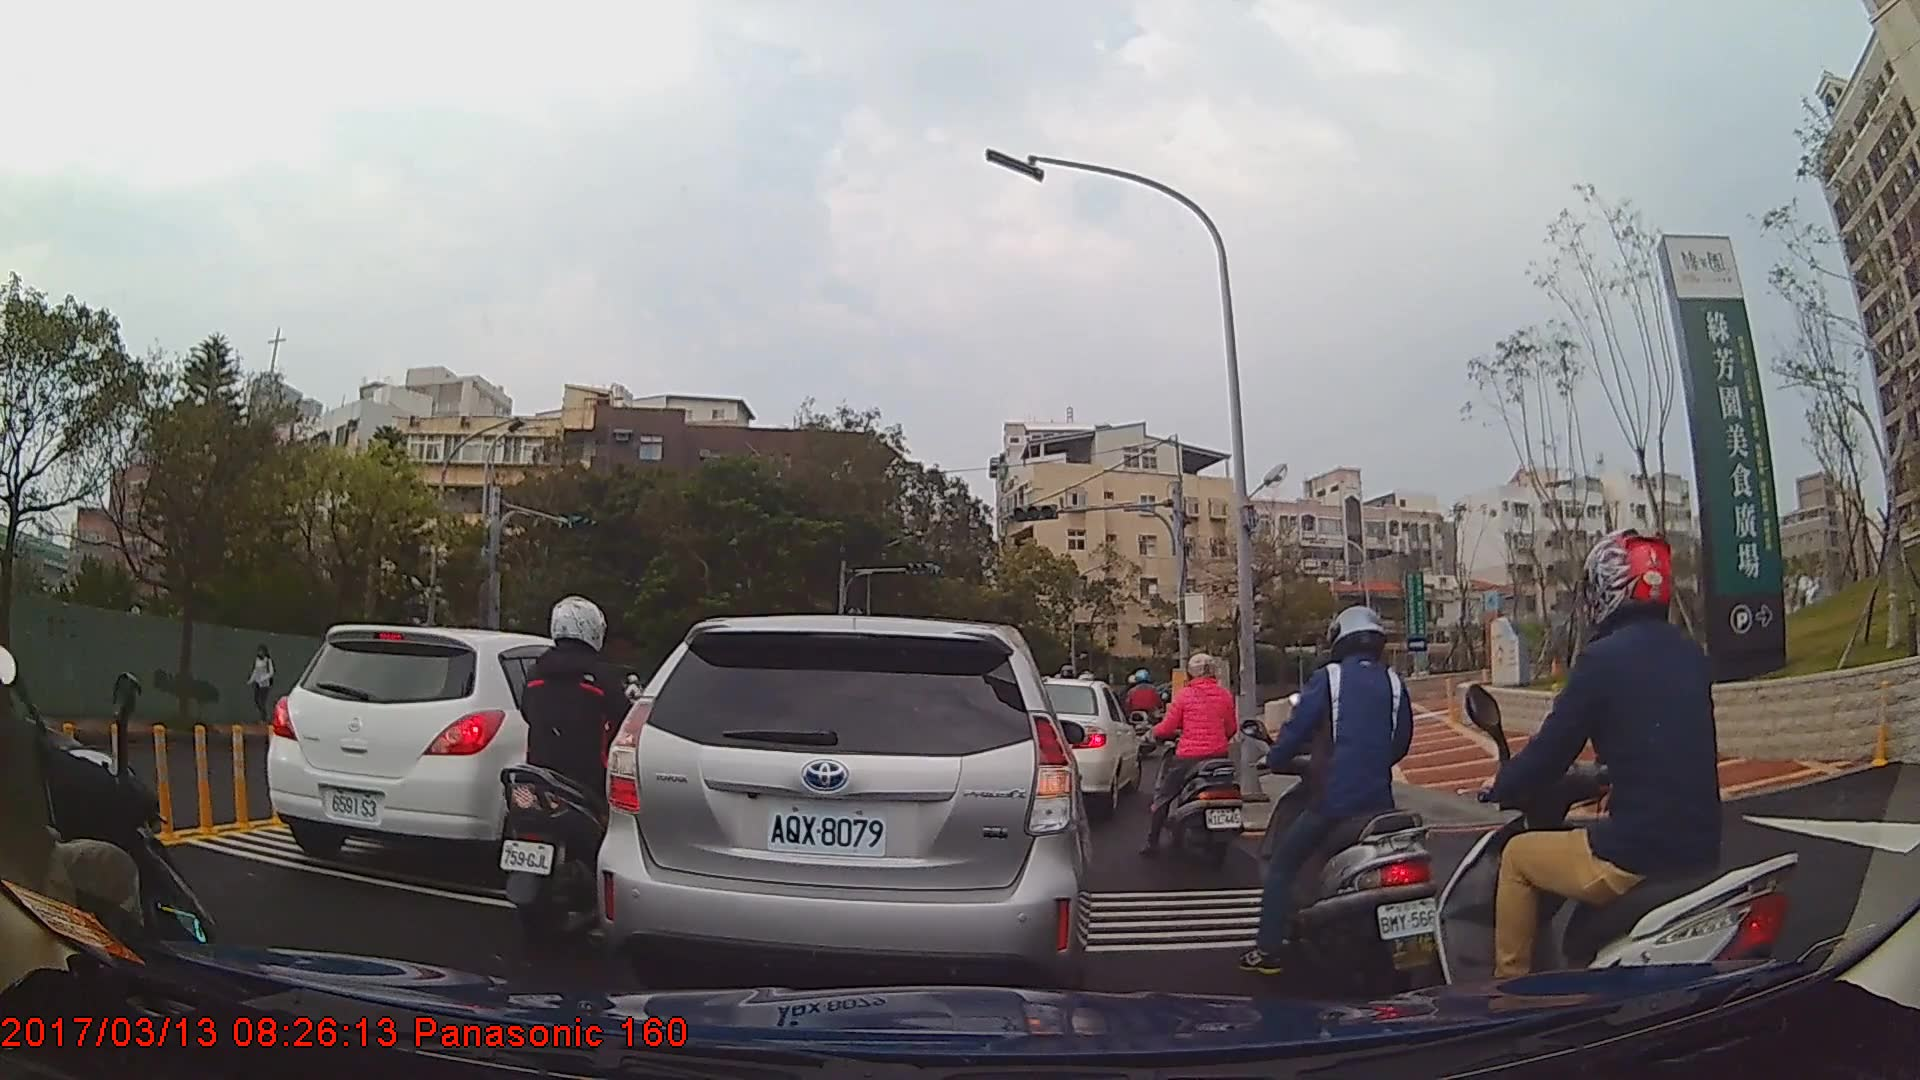pedestrian: (244, 646, 278, 725)
rider: (1430, 534, 1801, 1059), (1241, 606, 1446, 1000), (494, 595, 656, 952), (1139, 652, 1246, 866), (1124, 668, 1165, 763)
vehicle: (595, 612, 1093, 991), (265, 623, 639, 878), (1033, 675, 1140, 818)
